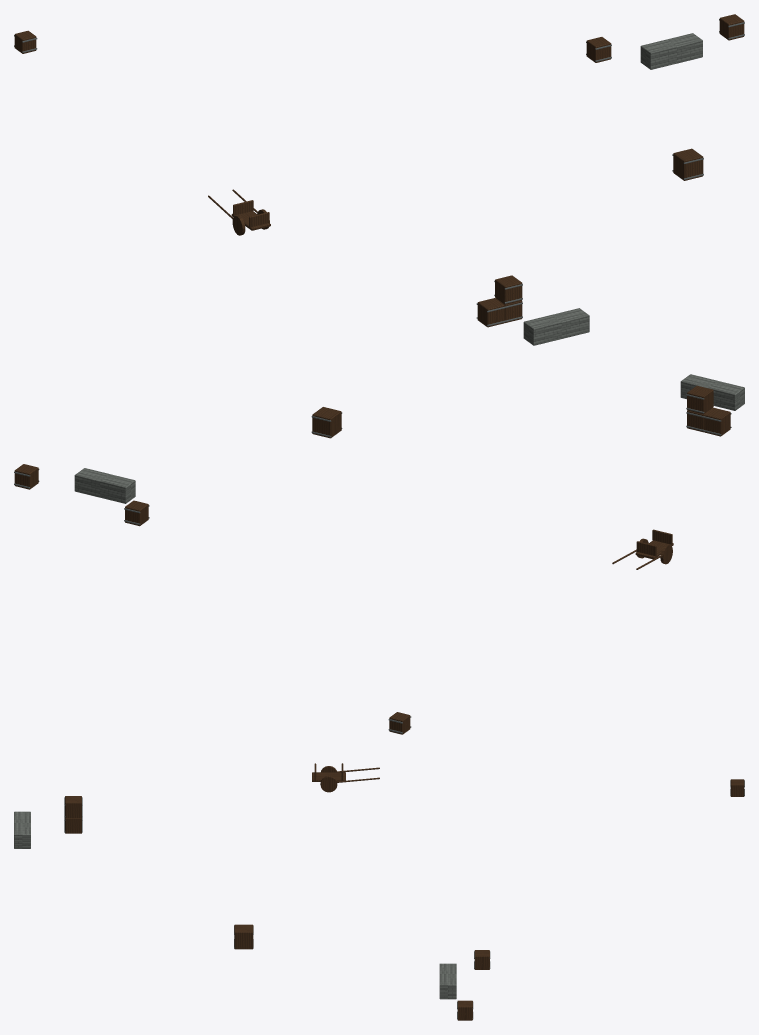
File: props.glb
The picture shows the model from 3 angles, top to bottom: view 1: azimuth 30°, elevation 25°; view 2: azimuth 150°, elevation 25°; view 3: azimuth 270°, elevation 25°; orthographic projection. The views are drawn at different scales.
Visible parts, largest first — view 1: LowCover_Fictional, LowCover_Courtyard_Fictional, MovableCrate_Fictional_3, MovableCrate_Fictional_0, MovableCrate_Fictional_2; view 2: LowCover_Courtyard_Fictional, LowCover_Fictional, MovableCrate_Fictional_3, MovableCrate_Fictional_2, MovableCrate_Fictional_0; view 3: LowCover_Courtyard_Fictional, LowCover_Fictional, MovableCrate_Fictional_3.
Part boxes in pixels (box(x1,y1,x2,y2)): LowCover_Fictional: box(523, 308, 589, 345); LowCover_Courtyard_Fictional: box(640, 33, 702, 69); MovableCrate_Fictional_3: box(673, 148, 703, 180); MovableCrate_Fictional_0: box(477, 298, 504, 327); MovableCrate_Fictional_2: box(495, 275, 522, 304); LowCover_Courtyard_Fictional: box(74, 468, 135, 503); LowCover_Fictional: box(680, 374, 744, 410); MovableCrate_Fictional_3: box(312, 407, 341, 438); MovableCrate_Fictional_2: box(687, 385, 713, 414); MovableCrate_Fictional_0: box(704, 408, 730, 436); LowCover_Courtyard_Fictional: box(439, 963, 456, 999); LowCover_Fictional: box(14, 811, 30, 848); MovableCrate_Fictional_3: box(234, 924, 253, 949).
Size of the model in its own units: 33.25 by 2 by 42.93.
3 materials, 2 textured.
